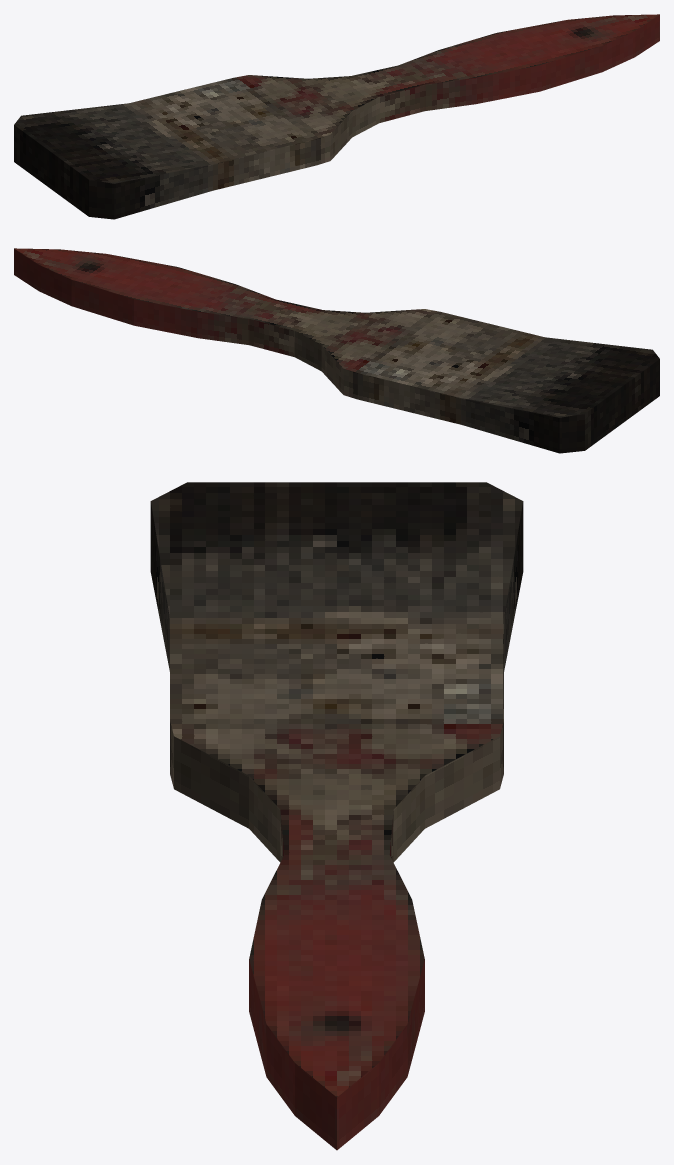
The model's file is paint_brush_mr_1.glb.
The picture shows the model from 3 angles, top to bottom: view 1: azimuth 30°, elevation 25°; view 2: azimuth 150°, elevation 25°; view 3: azimuth 270°, elevation 25°; orthographic projection. The views are drawn at different scales.
Parts seen in each view (by area): view 1: paint_brush_mr_1; view 2: paint_brush_mr_1; view 3: paint_brush_mr_1.
Boxes of the visible parts, x1=… form: paint_brush_mr_1: x1=14, y1=14, x2=659, y2=219; paint_brush_mr_1: x1=14, y1=248, x2=659, y2=453; paint_brush_mr_1: x1=150, y1=482, x2=523, y2=1150.
Size of the model in its own units: 0.36 by 0.021 by 0.0954.
Materials: 1 (1 with a texture image).
